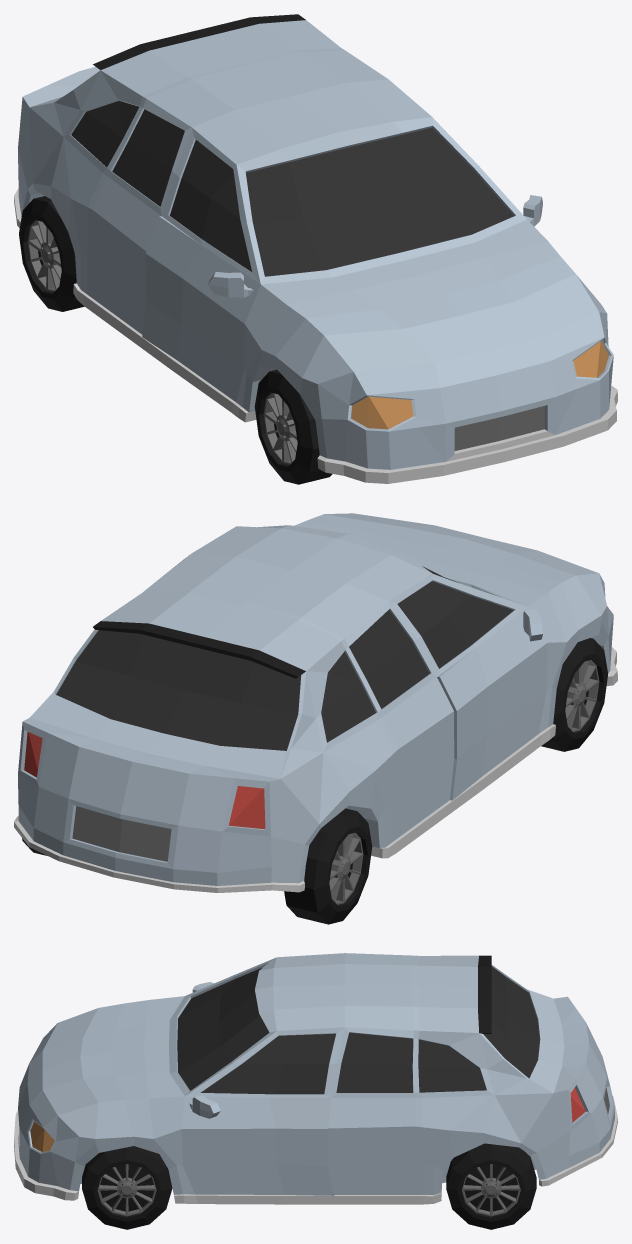
Rendered from Car.glb.
3 renders of one model, top to bottom at view 1: azimuth 30°, elevation 25°; view 2: azimuth 150°, elevation 25°; view 3: azimuth 270°, elevation 25°, orthographic. The views are drawn at different scales.
Parts seen in each view (by area): view 1: Body, FrontRight, BackRight; view 2: Body, BackRight, FrontRight; view 3: Body, BackLeft, FrontLeft.
Boxes of the visible parts, left/top/right/bottom form: Body: left=14, top=14, right=617, bottom=483; FrontRight: left=254, top=369, right=332, bottom=484; BackRight: left=19, top=196, right=84, bottom=311; Body: left=14, top=513, right=617, bottom=892; BackRight: left=284, top=808, right=372, bottom=924; FrontRight: left=541, top=638, right=607, bottom=751; Body: left=14, top=953, right=617, bottom=1204; BackLeft: left=446, top=1143, right=536, bottom=1229; FrontLeft: left=82, top=1146, right=172, bottom=1229.
Bounding box in the file's own units: 1.64 × 1.15 × 3.31.
